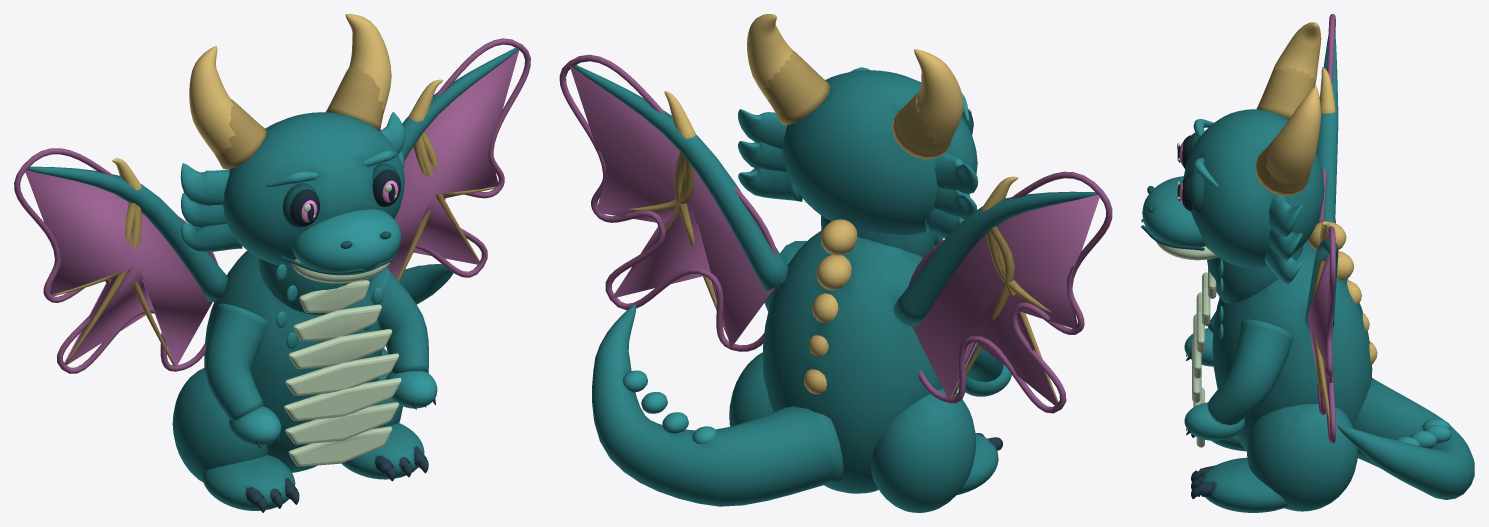
The picture shows the model from 3 angles, left to right: view 1: azimuth 30°, elevation 25°; view 2: azimuth 150°, elevation 25°; view 3: azimuth 270°, elevation 25°; orthographic projection. The views are drawn at different scales.
Parts seen in each view (by area): view 1: Escamas jade · corpo, Membranas das asas · asas, Placas do peito · barriga, Escamas jade · corpo__escamas, Chifres e crista · crista__raiz, Chifres e crista · crista, Membranas das asas · asas__dobras, Olhos e garras · olhos__garras, Olhos e garras · olhos, Escamas jade · corpo__sulcos; view 2: Escamas jade · corpo, Membranas das asas · asas, Chifres e crista · crista, Membranas das asas · asas__dobras, Escamas jade · corpo__escamas, Chifres e crista · crista__raiz; view 3: Escamas jade · corpo, Escamas jade · corpo__escamas, Chifres e crista · crista, Chifres e crista · crista__raiz, Placas do peito · barriga, Membranas das asas · asas__dobras, Membranas das asas · asas, Escamas jade · corpo__sulcos, Olhos e garras · olhos, Olhos e garras · olhos__garras.
Boxes of the visible parts, x1=… form: Escamas jade · corpo: x1=27, y1=48, x2=519, y2=510; Membranas das asas · asas: x1=25, y1=50, x2=519, y2=365; Placas do peito · barriga: x1=284, y1=259, x2=401, y2=466; Escamas jade · corpo__escamas: x1=180, y1=112, x2=437, y2=446; Chifres e crista · crista__raiz: x1=52, y1=66, x2=497, y2=366; Chifres e crista · crista: x1=112, y1=14, x2=442, y2=190; Membranas das asas · asas__dobras: x1=14, y1=38, x2=530, y2=373; Olhos e garras · olhos__garras: x1=245, y1=397, x2=435, y2=512; Olhos e garras · olhos: x1=290, y1=169, x2=400, y2=226; Escamas jade · corpo__sulcos: x1=281, y1=163, x2=400, y2=274; Escamas jade · corpo: x1=573, y1=65, x2=1097, y2=512; Membranas das asas · asas: x1=569, y1=66, x2=1099, y2=407; Chifres e crista · crista: x1=664, y1=14, x2=1018, y2=394; Membranas das asas · asas__dobras: x1=559, y1=54, x2=1112, y2=413; Escamas jade · corpo__escamas: x1=623, y1=67, x2=1011, y2=444; Chifres e crista · crista__raiz: x1=614, y1=51, x2=1058, y2=403; Escamas jade · corpo: x1=1183, y1=29, x2=1474, y2=512; Escamas jade · corpo__escamas: x1=1142, y1=119, x2=1451, y2=448; Chifres e crista · crista: x1=1265, y1=22, x2=1377, y2=364; Chifres e crista · crista__raiz: x1=1255, y1=67, x2=1329, y2=426; Placas do peito · barriga: x1=1156, y1=241, x2=1217, y2=447; Membranas das asas · asas__dobras: x1=1317, y1=14, x2=1335, y2=443; Membranas das asas · asas: x1=1307, y1=20, x2=1335, y2=402; Escamas jade · corpo__sulcos: x1=1141, y1=132, x2=1204, y2=250; Olhos e garras · olhos: x1=1177, y1=135, x2=1191, y2=211; Olhos e garras · olhos__garras: x1=1186, y1=355, x2=1217, y2=498.
Size of the model in its own units: 3.44 by 2.76 by 1.98.
